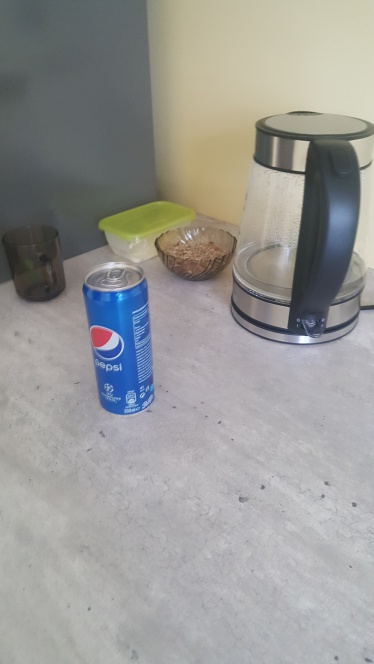pepsi: (79, 258, 164, 419)
